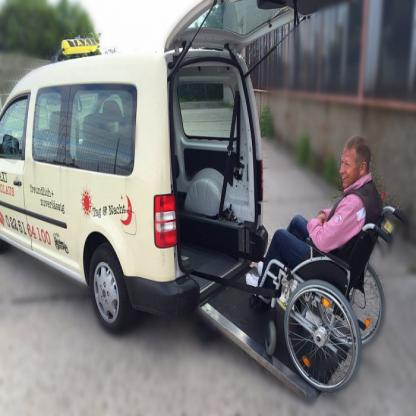wheelchair: (253, 135, 399, 391)
